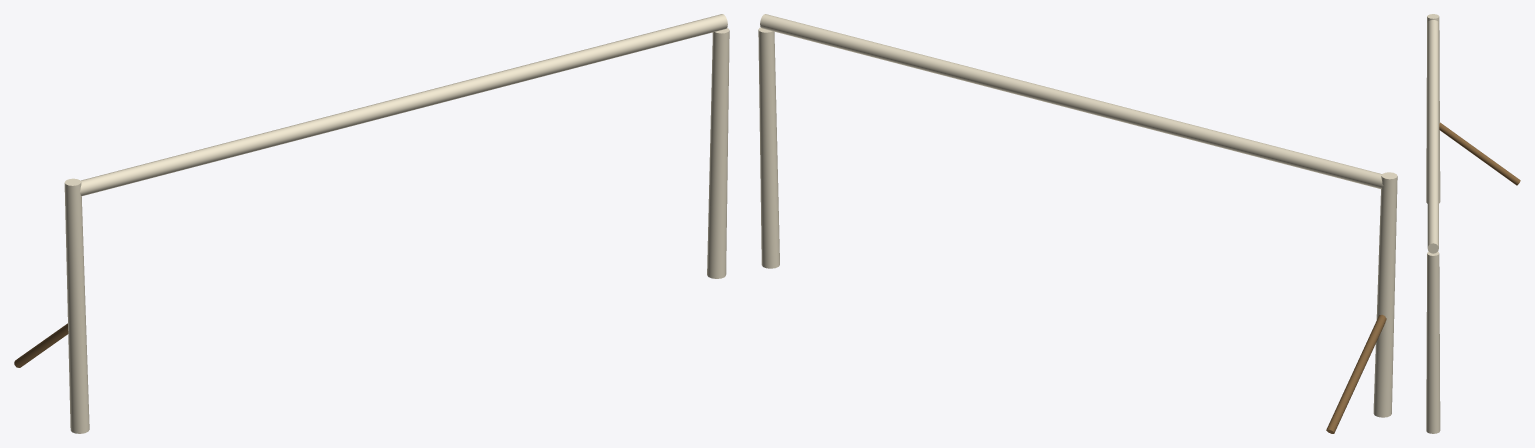
The model's file is trave.glb.
3 views of the same model, side by side, from view 1: azimuth 30°, elevation 25°; view 2: azimuth 150°, elevation 25°; view 3: azimuth 270°, elevation 25° (orthographic). The views are drawn at different scales.
Parts seen in each view (by area): view 1: trave; view 2: trave; view 3: trave.
Part boxes in pixels (left/top/right/bottom): trave: left=14, top=14, right=729, bottom=433; trave: left=758, top=14, right=1397, bottom=433; trave: left=1426, top=14, right=1520, bottom=433.
Bounding box in the file's own units: 6.4 × 2.39 × 1.07.
